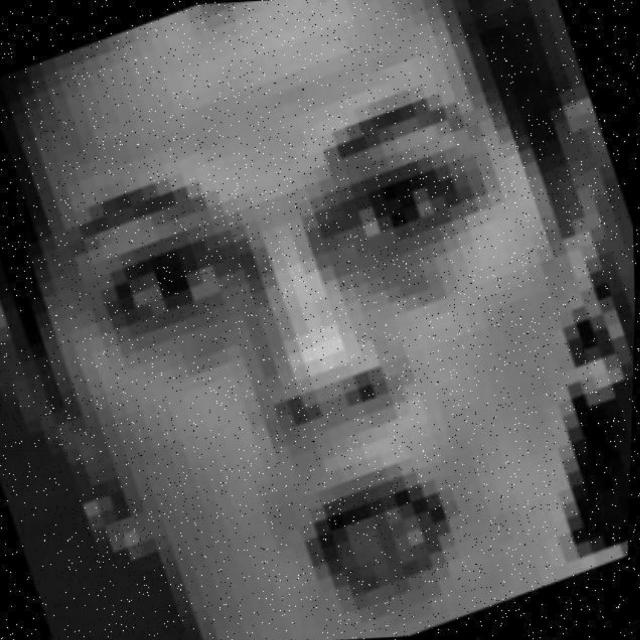Surprised: (27, 119, 640, 623)
